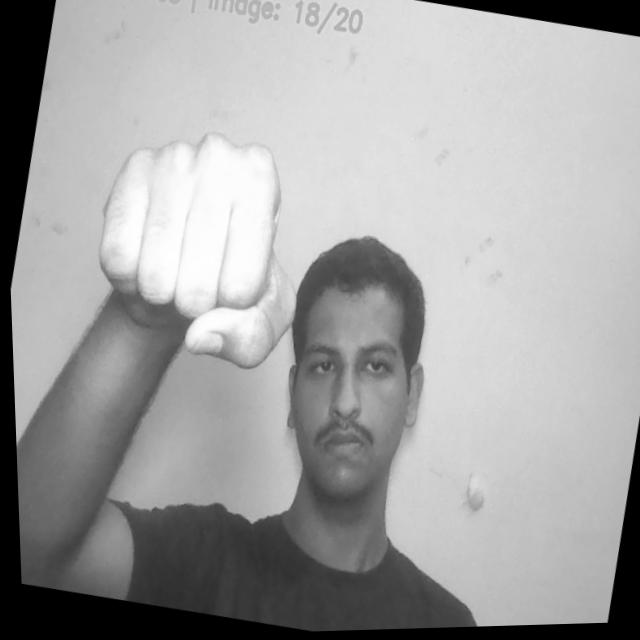Yes: (69, 105, 327, 390)
